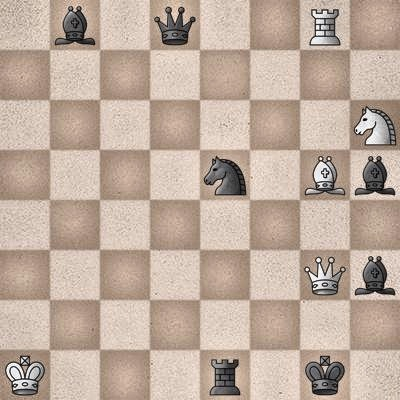black-bishop: (50, 0, 100, 50), (350, 150, 400, 200), (350, 250, 400, 300)
black-king: (300, 350, 350, 400)
black-knight: (200, 150, 250, 200)
black-queen: (150, 0, 200, 50)
black-rook: (200, 350, 250, 400)
white-bishop: (300, 150, 350, 200)
white-king: (0, 350, 50, 400)
white-knight: (350, 100, 400, 150)
white-queen: (300, 250, 350, 300)
white-rook: (300, 0, 350, 50)
